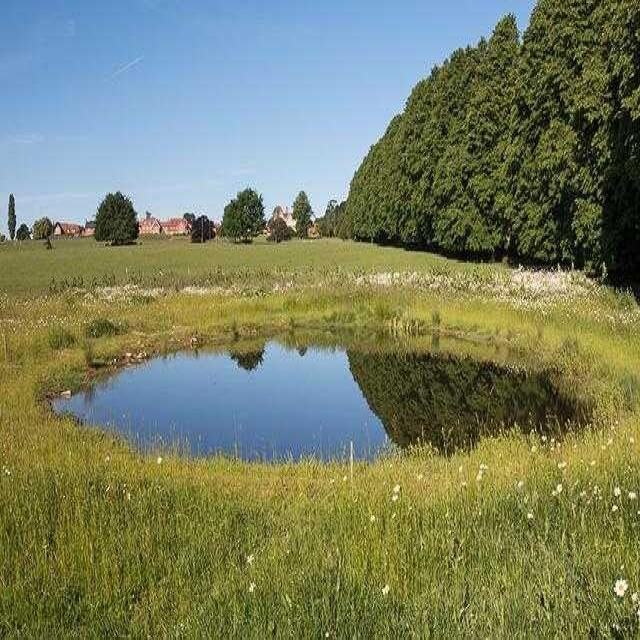Ponds: (48, 322, 615, 469)
